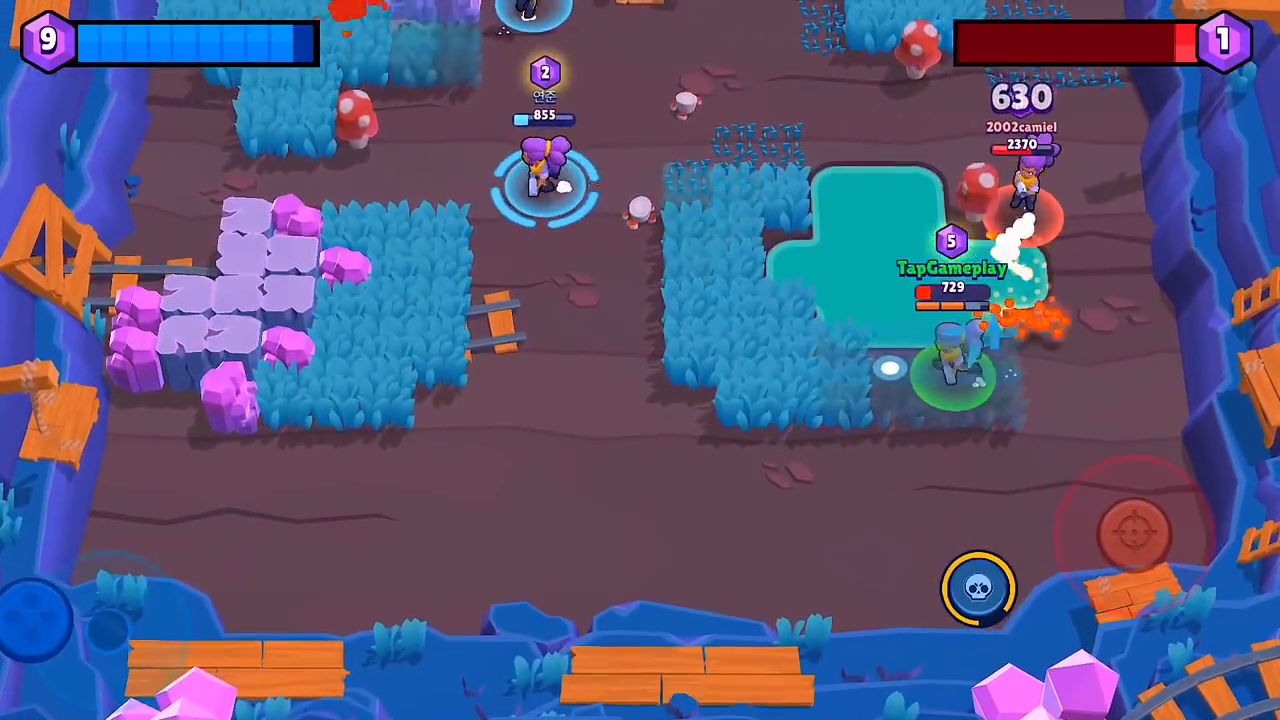move_stick: (1, 567, 65, 674)
red: (992, 129, 1078, 262)
